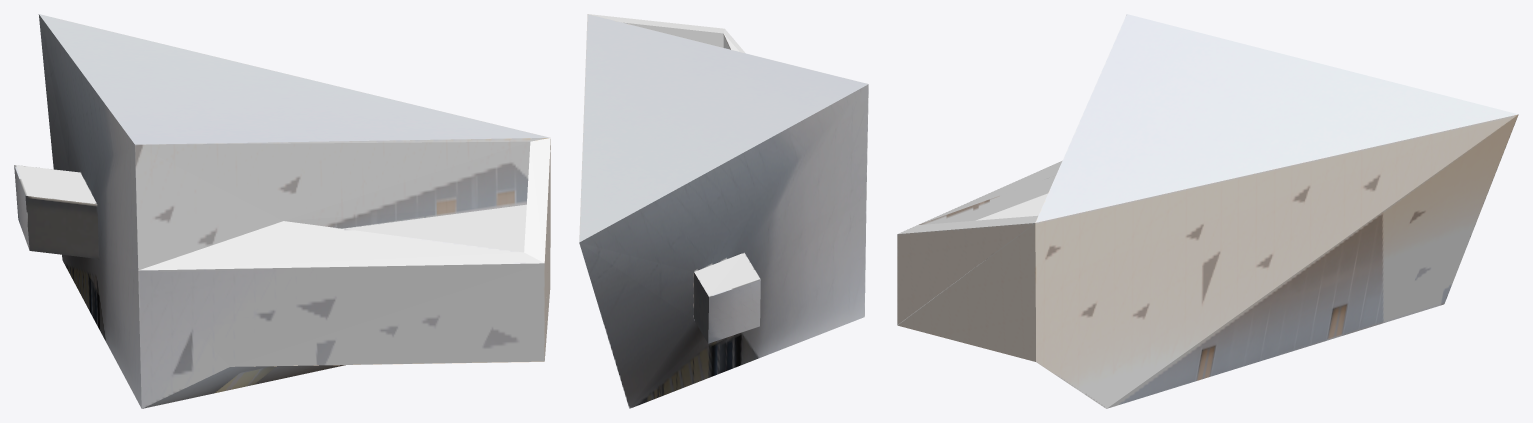
The picture shows the model from 3 angles, left to right: view 1: azimuth 30°, elevation 25°; view 2: azimuth 150°, elevation 25°; view 3: azimuth 270°, elevation 25°; orthographic projection. The views are drawn at different scales.
Parts seen in each view (by area): view 1: 210C.001; view 2: 210C.001; view 3: 210C.001.
Boxes of the visible parts, x1=… form: 210C.001: x1=14, y1=14, x2=550, y2=408; 210C.001: x1=579, y1=14, x2=868, y2=408; 210C.001: x1=897, y1=14, x2=1518, y2=408.
Size of the model in its own units: 29.93 by 20.68 by 47.39.
1 material, 1 textured.
